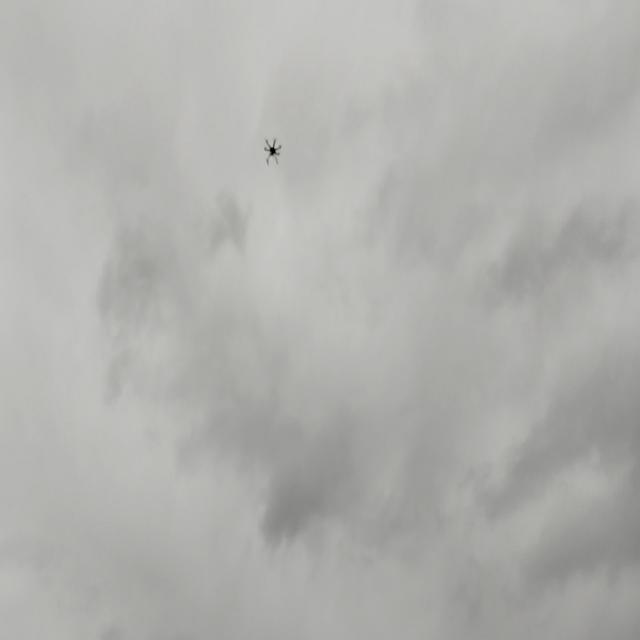drone: (262, 131, 284, 170)
